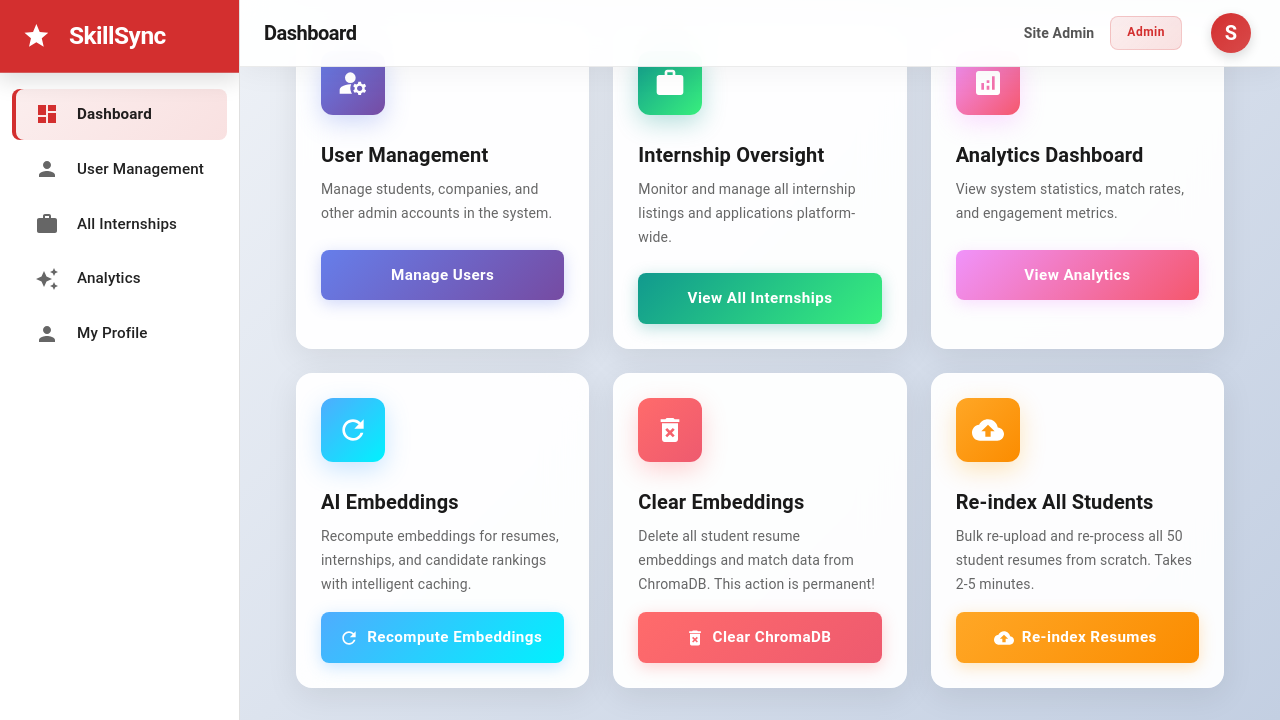
Test: clearing ChromaDB asks first, then reports what it deleted
The image size is (1280, 720).
(page scrolled)
Click the button "Clear ChromaDB" at (760, 638), box [638,612,882,663]
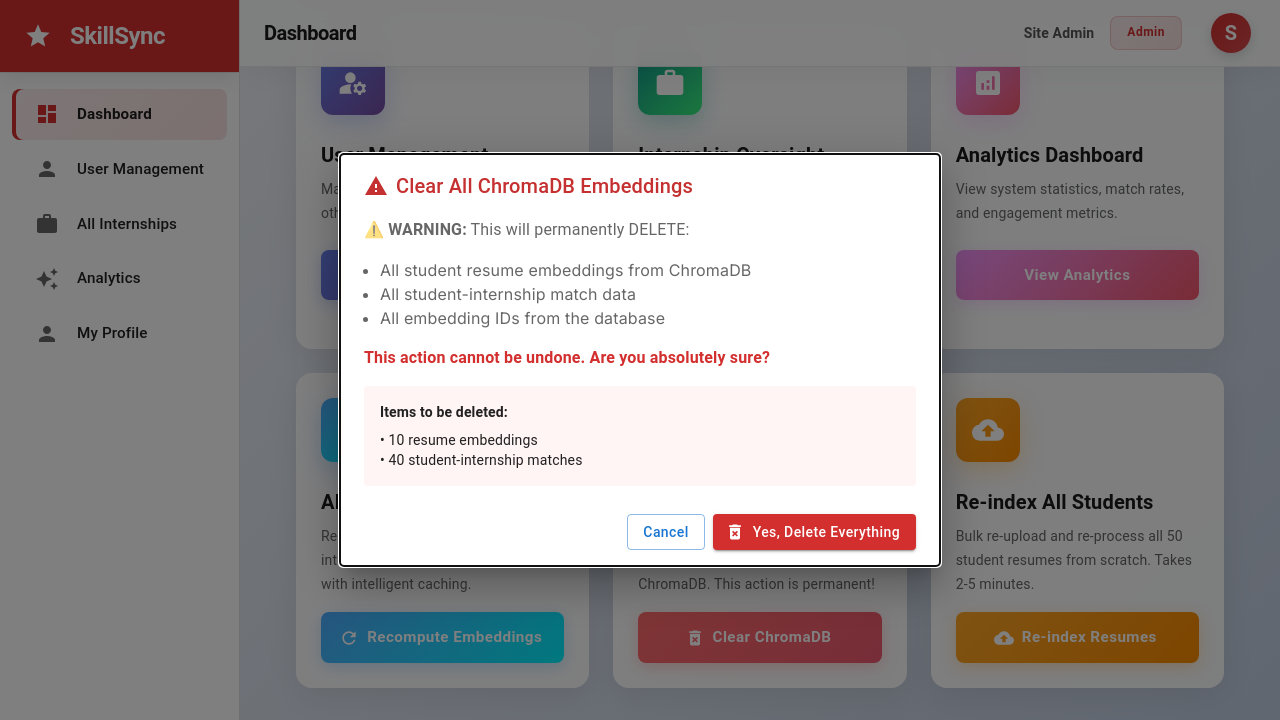
Click the button "Cancel" at (666, 532), box [627,514,705,550]
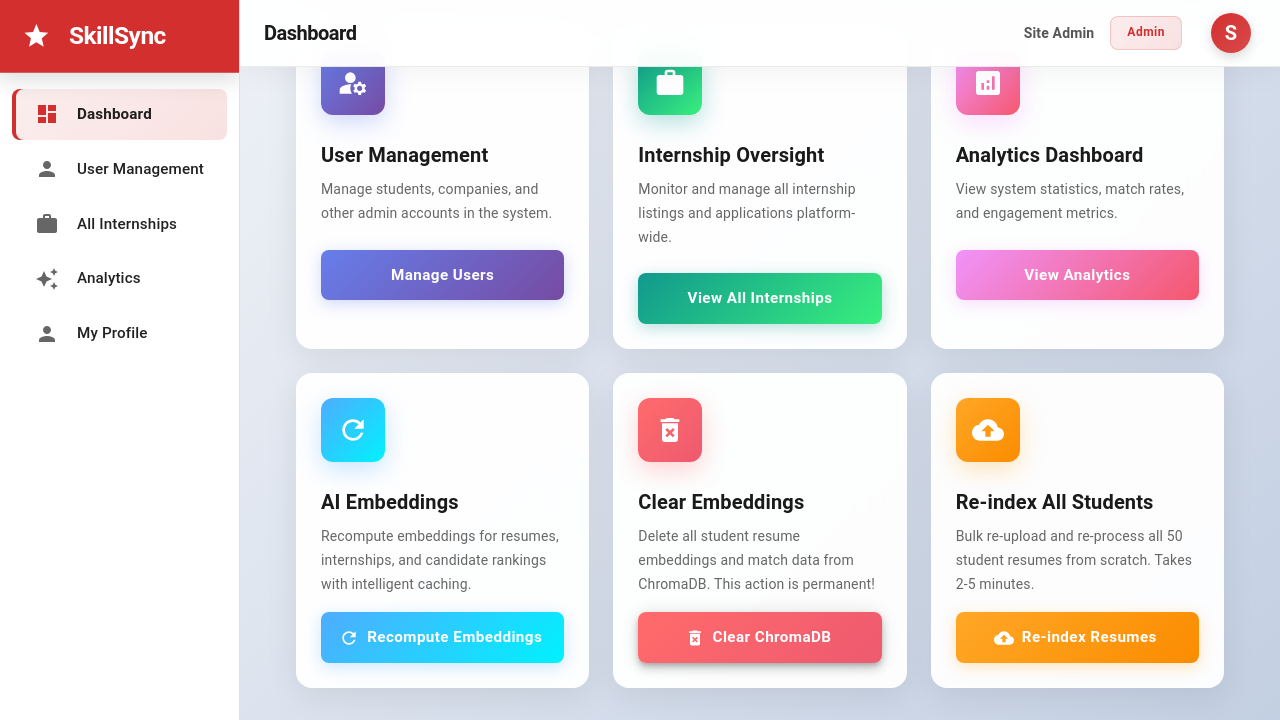
Expected: the dialog is gone
Click the button "Clear ChromaDB" at (760, 638), box [638,612,882,663]
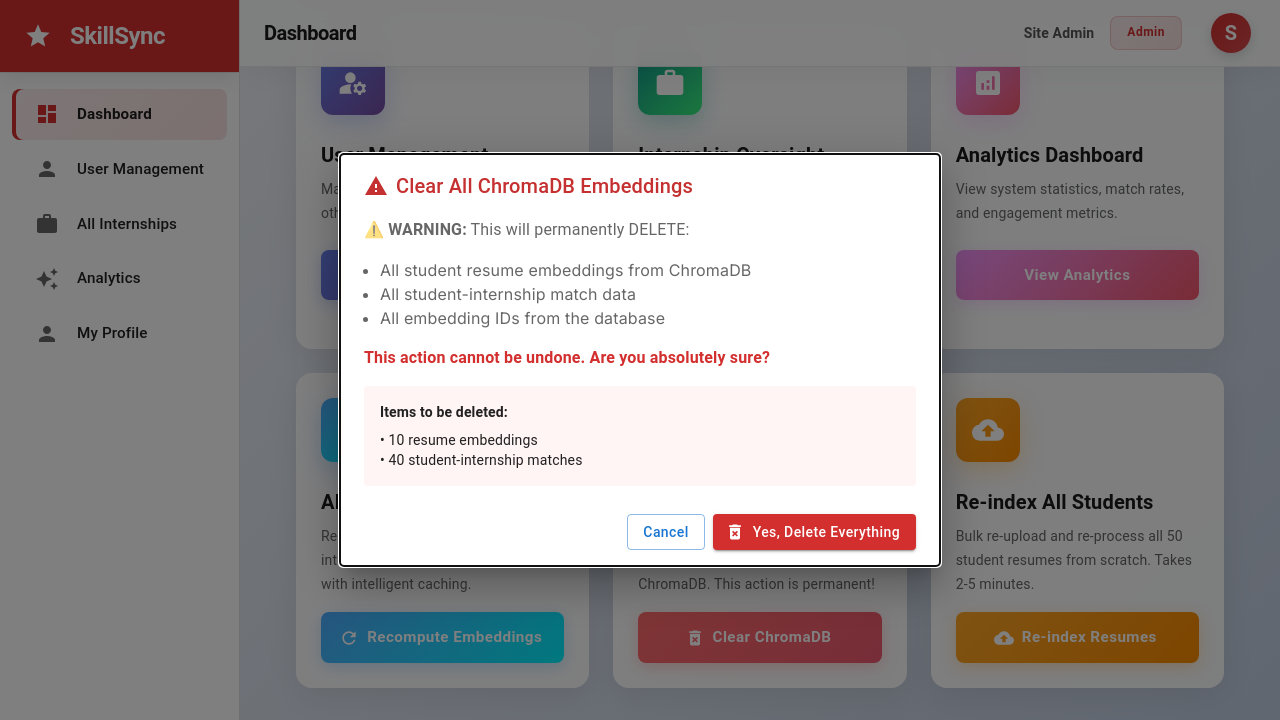
Click the button "Yes, Delete Everything" at (814, 532), box [713,514,916,550]
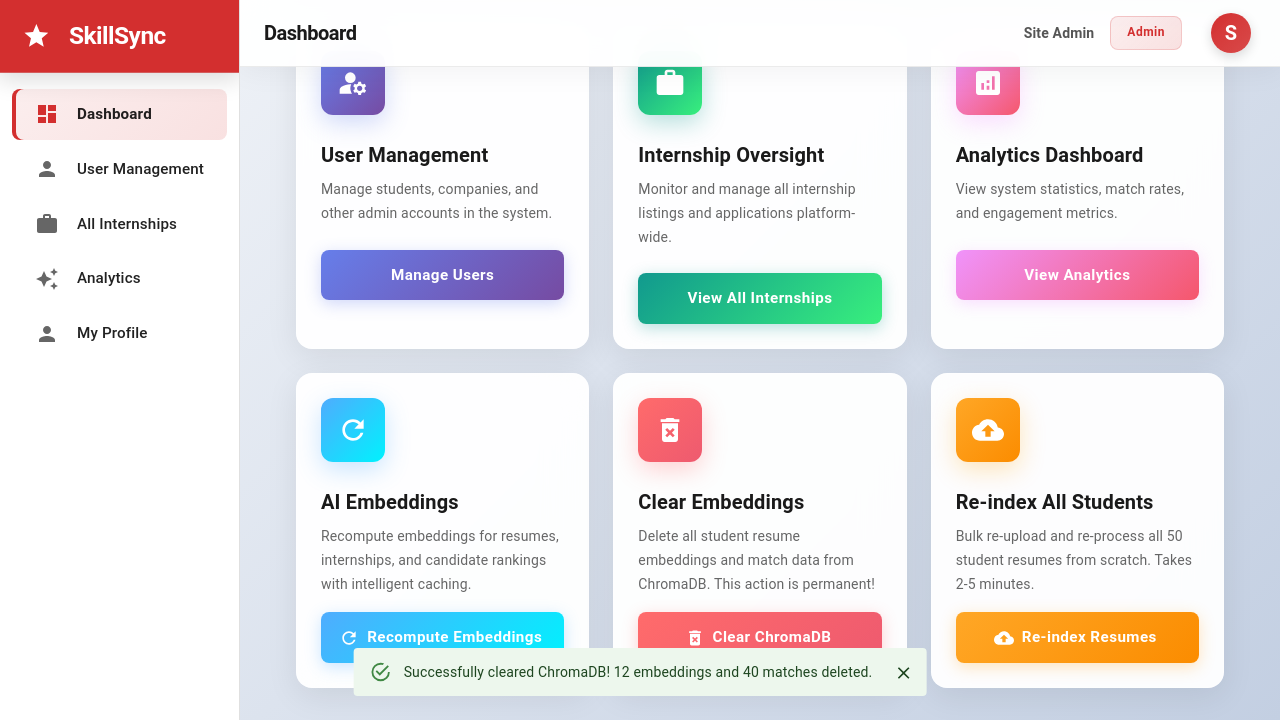
Expected: the text "12 embeddings and 40 matches deleted" is shown, [404,664,872,680]
